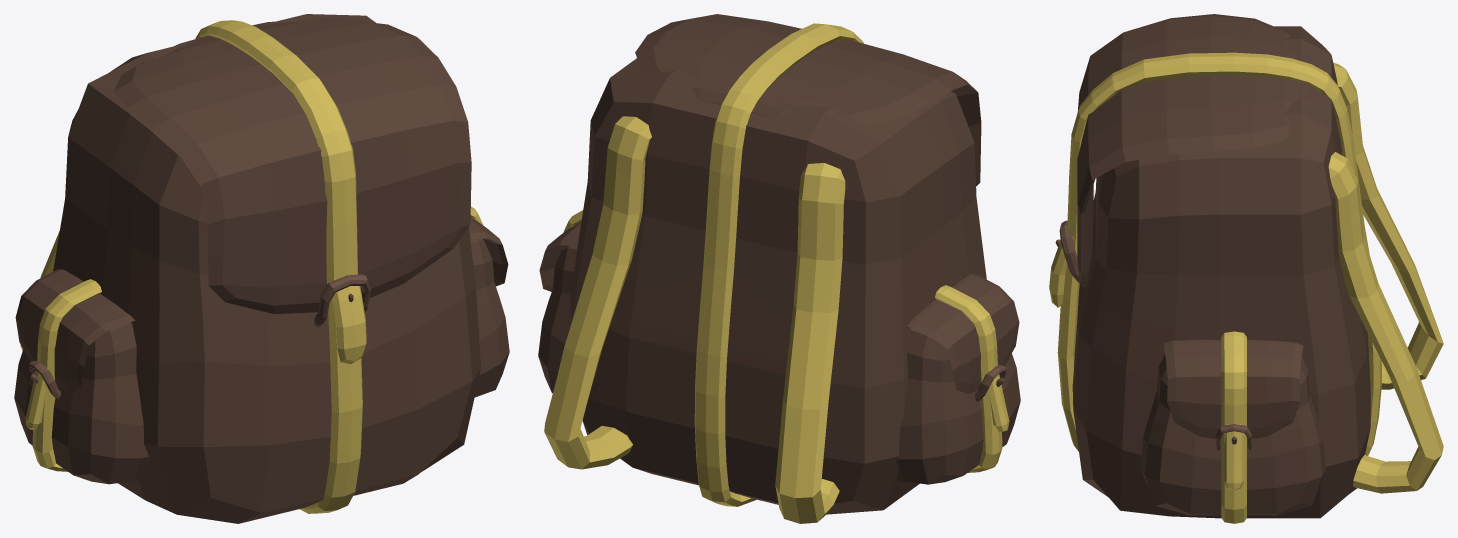
Rendered from MediumBag.fbx.
3 renders of one model, left to right at view 1: azimuth 30°, elevation 25°; view 2: azimuth 150°, elevation 25°; view 3: azimuth 270°, elevation 25°, orthographic. The views are drawn at different scales.
Visible parts, largest first — view 1: Backpack; view 2: Backpack; view 3: Backpack.
Boxes of the visible parts, x1,y1,x2,y2 form: Backpack: (14,14,509,523); Backpack: (538,14,1020,523); Backpack: (1049,14,1443,523).
Size of the model in its own units: 0.5123 by 0.4563 by 0.3858.
